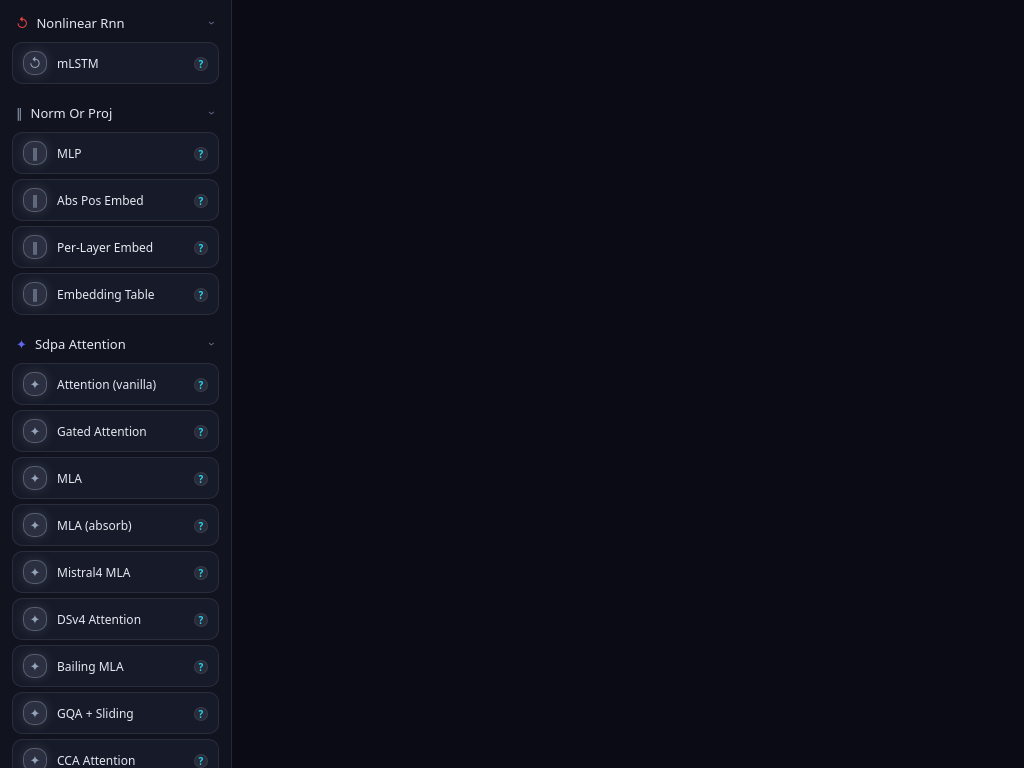
Test: V7-Q09 Palette help icons › clicking a brick ? opens the help modal with the brick's content
(page scrolled)
Click the button with test id "help-icon-brick_attention": (201, 384) top-left (194, 378), bottom-right (208, 392)
(page scrolled)
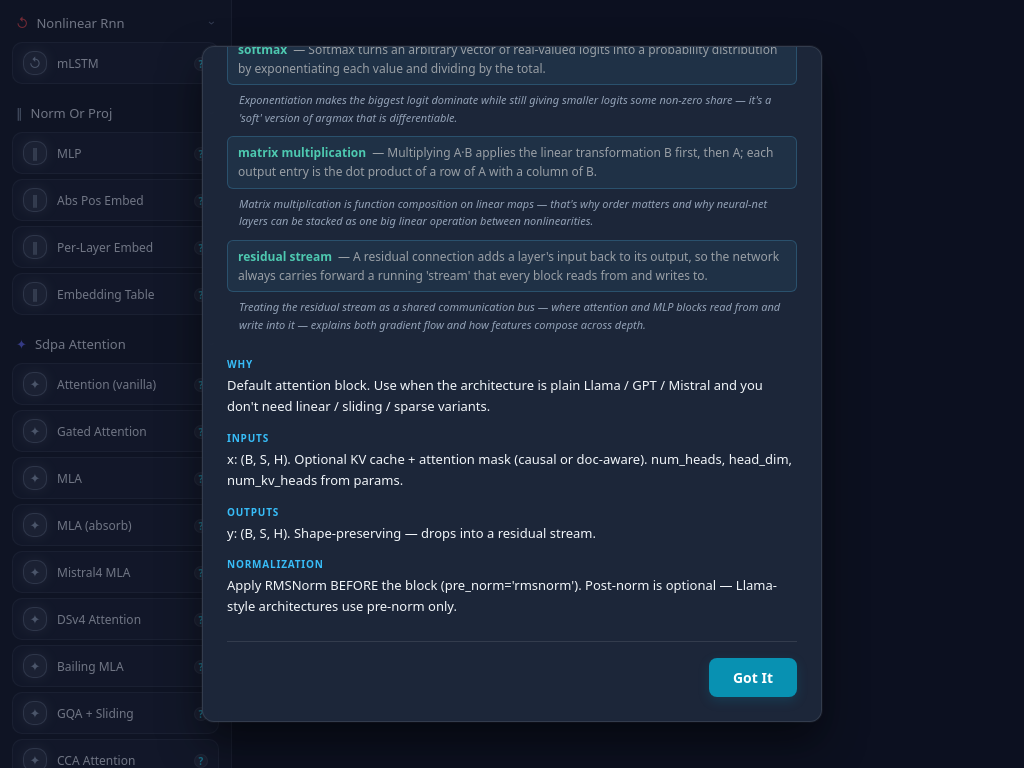
expect the element with test id "help-modal-brick_attention" is shown: met, box top-left (202, 46), bottom-right (822, 722)
expect the text with test id "help-modal-inputs" shows "(B, S, H)": met, box top-left (227, 450), bottom-right (792, 489)
expect the text with test id "help-modal-outputs" shows "(B, S, H)": met, box top-left (227, 524), bottom-right (596, 542)
